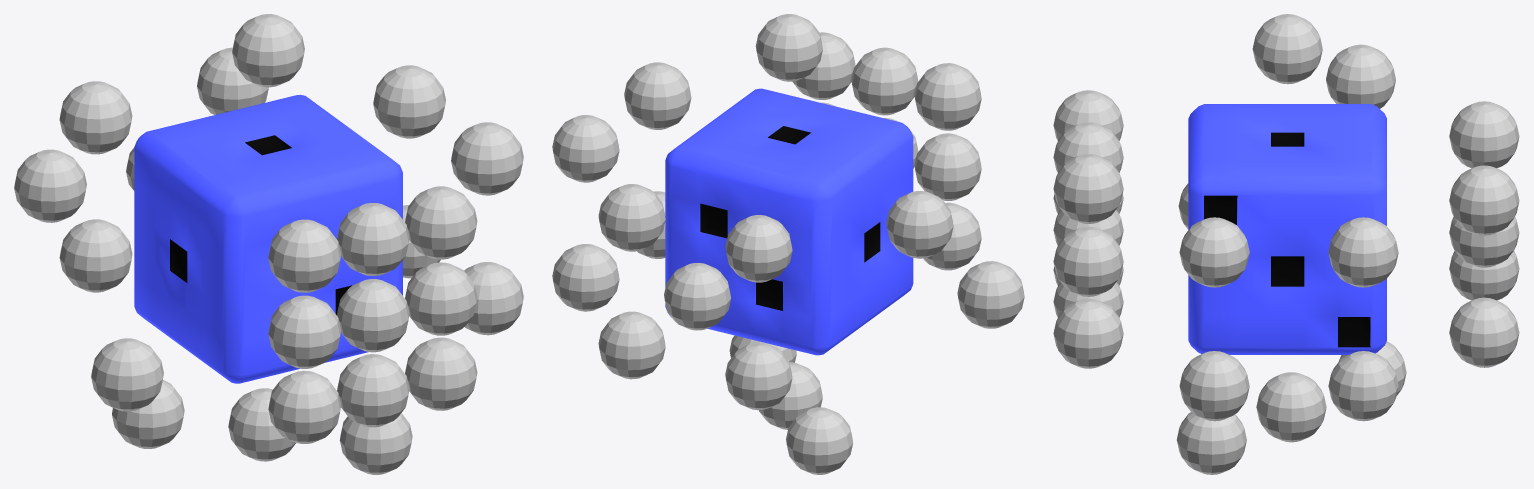
Rendered from dicemodel_lowroller.glb.
3 views of the same model, side by side, from view 1: azimuth 30°, elevation 25°; view 2: azimuth 150°, elevation 25°; view 3: azimuth 270°, elevation 25° (orthographic). The views are drawn at different scales.
Visible parts, largest first — view 1: Sphere.006, Cube; view 2: Sphere.006, Cube; view 3: Sphere.006, Cube.
Part boxes in pixels (box(x1,y1,x2,y2)): Sphere.006: box(14, 14, 523, 474); Cube: box(134, 94, 402, 383); Sphere.006: box(552, 14, 1024, 474); Cube: box(665, 88, 913, 355); Sphere.006: box(1053, 14, 1519, 474); Cube: box(1188, 104, 1386, 354).
Bounding box in the file's own units: 2.36 × 2.35 × 2.35.
